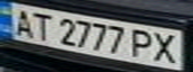2: (51, 15, 78, 47)
7: (106, 22, 130, 56), (72, 18, 93, 50), (90, 20, 109, 52)
A: (6, 6, 39, 38)
P: (127, 26, 160, 61)
T: (27, 10, 57, 42)
X: (148, 29, 184, 65)
